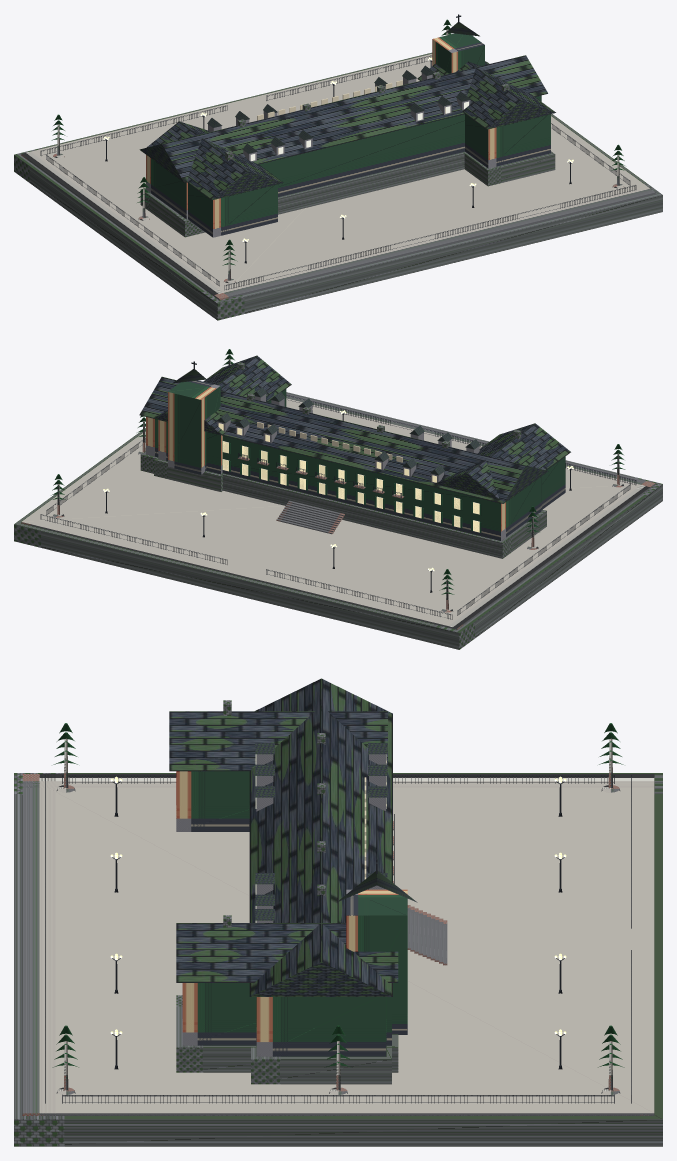
Rendered from ultra_lm_33_couvent_des_oiseaux.glb.
The picture shows the model from 3 angles, top to bottom: view 1: azimuth 30°, elevation 25°; view 2: azimuth 150°, elevation 25°; view 3: azimuth 270°, elevation 25°; orthographic projection. The views are drawn at different scales.
Parts seen in each view (by area): view 1: Couvent1934_Terrace_GraniteSteps_And_WormBrick, Couvent1934_PointedArch_StoneBase_Quoins_And_Skirt, Couvent1934_Normandy_Mansard_Slate_Roof_And_Dormers, Couvent1934_78m_Veysseyre_Collegiate_Ochre_Walls, Couvent1934_3DWroughtIron_Balconies_And_Streetlamps, Couvent1934_PineHill_And_Courtyard_Foliage, Couvent1934_NDDuLangbian_Roof_Tile_Inscriptions; view 2: Couvent1934_Terrace_GraniteSteps_And_WormBrick, Couvent1934_PointedArch_StoneBase_Quoins_And_Skirt, Couvent1934_Normandy_Mansard_Slate_Roof_And_Dormers, Couvent1934_78m_Veysseyre_Collegiate_Ochre_Walls, Couvent1934_3DWroughtIron_Balconies_And_Streetlamps, Chapel_And_Classroom_FrenchWindow_Blend085, Couvent1934_Wooden_Louver_Shutters, Couvent1934_PineHill_And_Courtyard_Foliage, Couvent1934_NDDuLangbian_Roof_Tile_Inscriptions; view 3: Couvent1934_Terrace_GraniteSteps_And_WormBrick, Couvent1934_Normandy_Mansard_Slate_Roof_And_Dormers, Couvent1934_PointedArch_StoneBase_Quoins_And_Skirt, Couvent1934_78m_Veysseyre_Collegiate_Ochre_Walls, Couvent1934_3DWroughtIron_Balconies_And_Streetlamps, Couvent1934_PineHill_And_Courtyard_Foliage.
Boxes of the visible parts, x1,y1,x2,y2 form: Couvent1934_Terrace_GraniteSteps_And_WormBrick: (21, 29, 655, 300); Couvent1934_PointedArch_StoneBase_Quoins_And_Skirt: (14, 52, 662, 320); Couvent1934_Normandy_Mansard_Slate_Roof_And_Dormers: (139, 22, 555, 200); Couvent1934_78m_Veysseyre_Collegiate_Ochre_Walls: (146, 33, 550, 237); Couvent1934_3DWroughtIron_Balconies_And_Streetlamps: (40, 14, 636, 290); Couvent1934_PineHill_And_Courtyard_Foliage: (51, 19, 624, 265); Couvent1934_NDDuLangbian_Roof_Tile_Inscriptions: (257, 80, 402, 120); Couvent1934_Terrace_GraniteSteps_And_WormBrick: (21, 358, 655, 629); Couvent1934_PointedArch_StoneBase_Quoins_And_Skirt: (14, 362, 662, 649); Couvent1934_Normandy_Mansard_Slate_Roof_And_Dormers: (139, 355, 570, 503); Couvent1934_78m_Veysseyre_Collegiate_Ochre_Walls: (146, 380, 565, 540); Couvent1934_3DWroughtIron_Balconies_And_Streetlamps: (40, 361, 636, 619); Chapel_And_Classroom_FrenchWindow_Blend085: (218, 423, 479, 532); Couvent1934_Wooden_Louver_Shutters: (222, 441, 481, 532); Couvent1934_PineHill_And_Courtyard_Foliage: (51, 349, 625, 594); Couvent1934_NDDuLangbian_Roof_Tile_Inscriptions: (257, 422, 402, 462); Couvent1934_Terrace_GraniteSteps_And_WormBrick: (22, 738, 654, 1115); Couvent1934_Normandy_Mansard_Slate_Roof_And_Dormers: (169, 678, 417, 996); Couvent1934_PointedArch_StoneBase_Quoins_And_Skirt: (14, 700, 662, 1146); Couvent1934_78m_Veysseyre_Collegiate_Ochre_Walls: (176, 754, 407, 1056); Couvent1934_3DWroughtIron_Balconies_And_Streetlamps: (45, 775, 631, 1103); Couvent1934_PineHill_And_Courtyard_Foliage: (52, 723, 624, 1067).
Bounding box in the file's own units: 96 × 28.02 × 76.
Materials: 10 (4 with a texture image).
